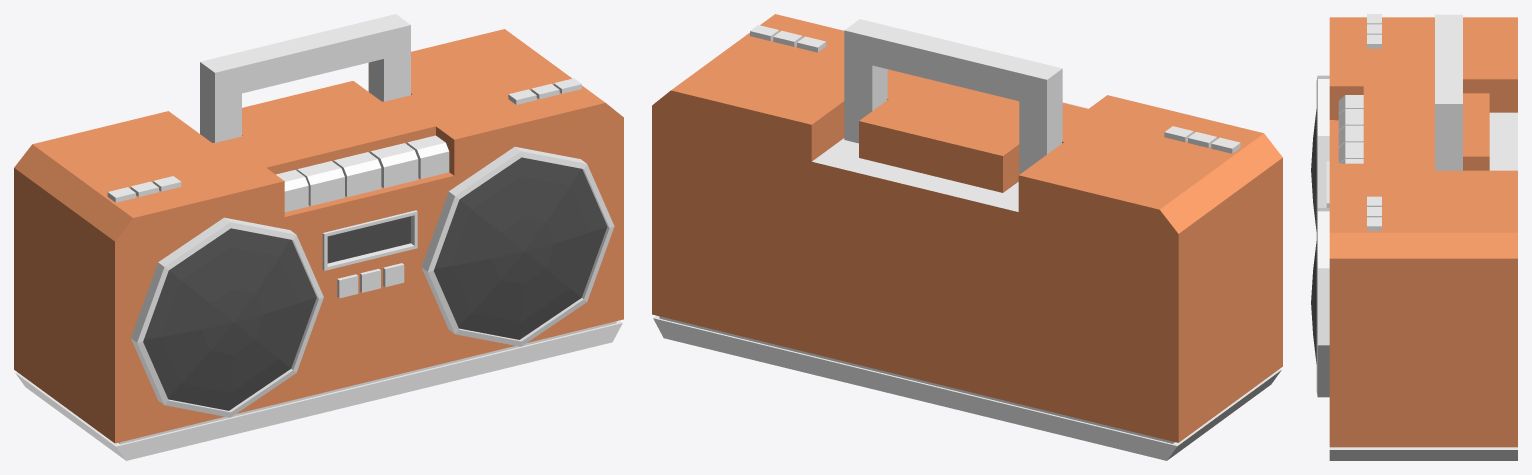
File: BoomBox_01.gltf
The picture shows the model from 3 angles, left to right: view 1: azimuth 30°, elevation 25°; view 2: azimuth 150°, elevation 25°; view 3: azimuth 270°, elevation 25°; orthographic projection. The views are drawn at different scales.
Visible parts, largest first — view 1: node-0; view 2: node-0; view 3: node-0.
Part boxes in pixels (bbox=[...]): node-0: bbox=[14, 14, 623, 460]; node-0: bbox=[652, 14, 1282, 460]; node-0: bbox=[1311, 14, 1517, 460].
Size of the model in its own units: 9.95 by 5.82 by 3.75.
